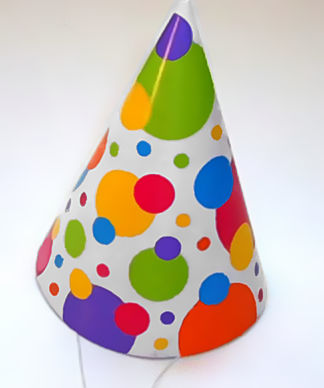cone: (36, 1, 267, 360)
